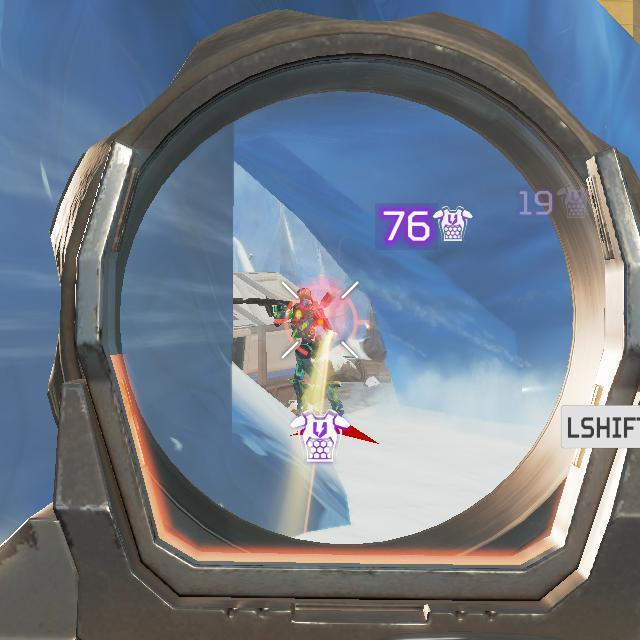avatar: (287, 286, 346, 419)
